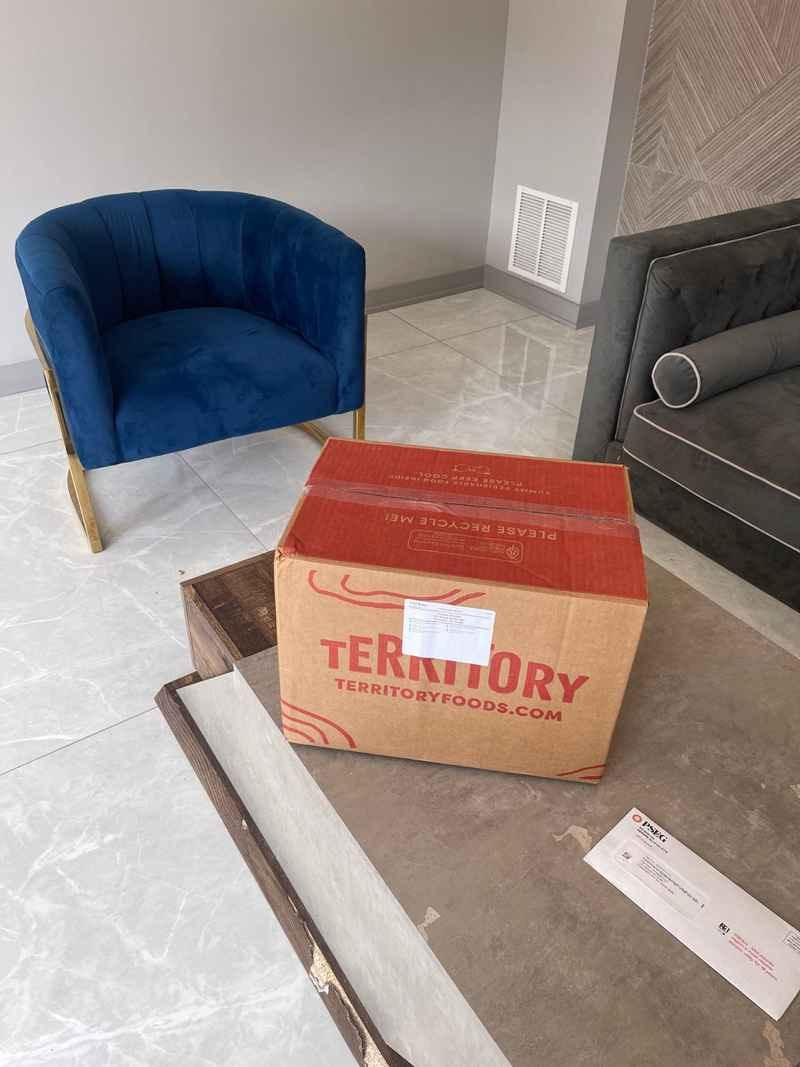package: (260, 428, 651, 795)
